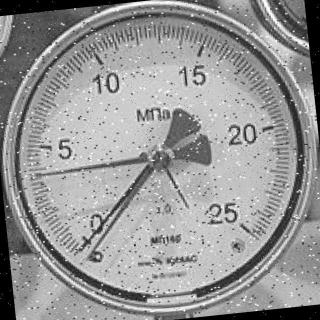gauge: (0, 0, 320, 320), (63, 230, 102, 272), (142, 140, 178, 176), (223, 208, 259, 244), (80, 244, 102, 264), (31, 166, 47, 184), (70, 241, 88, 257)
